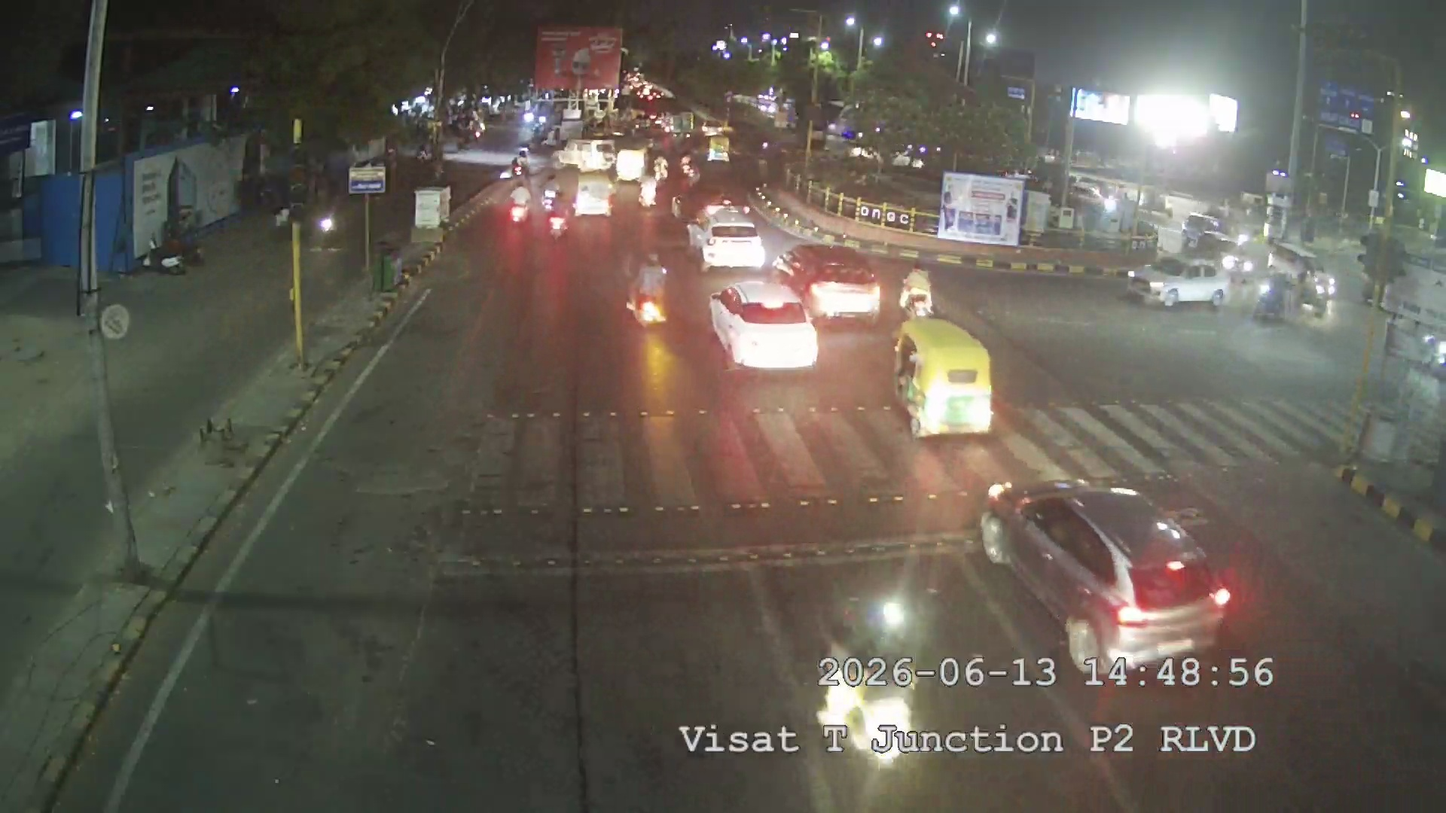auto_rickshaw: (891, 315, 1000, 437), (574, 169, 617, 218), (703, 123, 733, 162)
car: (962, 463, 1245, 660), (705, 279, 823, 372), (771, 234, 883, 320), (1128, 252, 1231, 308), (693, 199, 766, 270)
truck: (573, 169, 619, 218)
two_wheeler: (622, 251, 673, 332), (898, 259, 938, 317), (541, 180, 570, 241), (503, 178, 533, 227), (315, 201, 339, 242)
